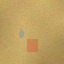person: (18, 29, 23, 38)
vehicle: (26, 39, 37, 52)
